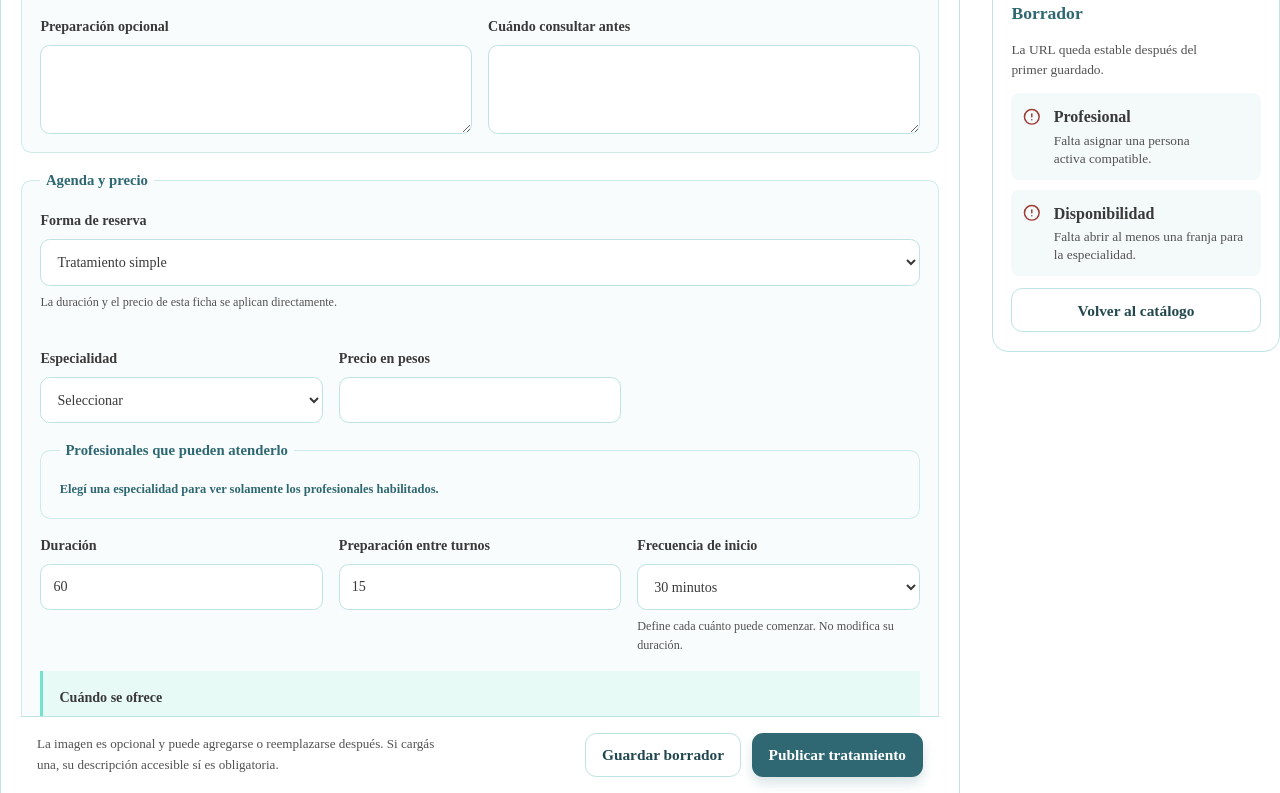
Test: TreatmentEditor › clears an assignment when the specialty changes to an incompatible one
(page scrolled)
Step 1. Select "Masoterapia" in the dropdown labelled "Especialidad" → (182, 400), box [40,376,323,423]
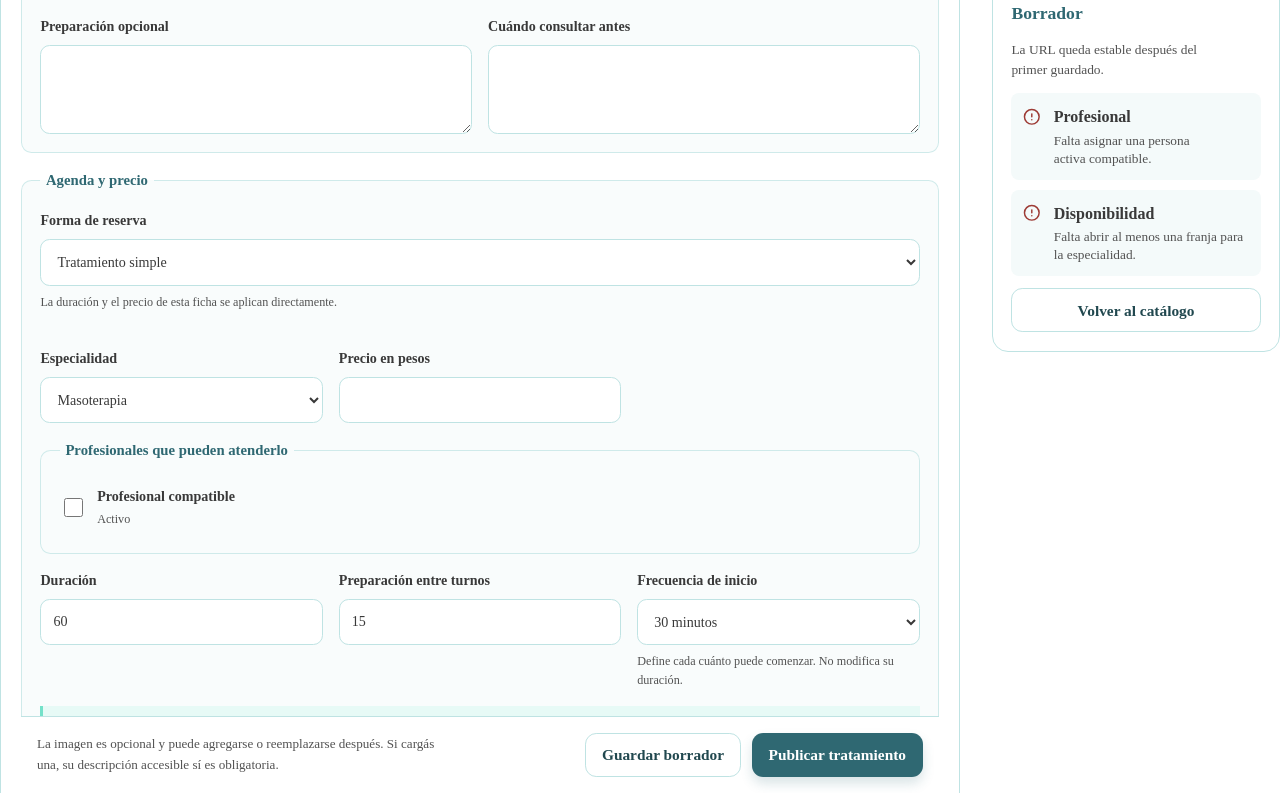
Step 2. Click the checkbox labelled "Profesional compatible Activo" → (73, 507), box [64,498,83,517]
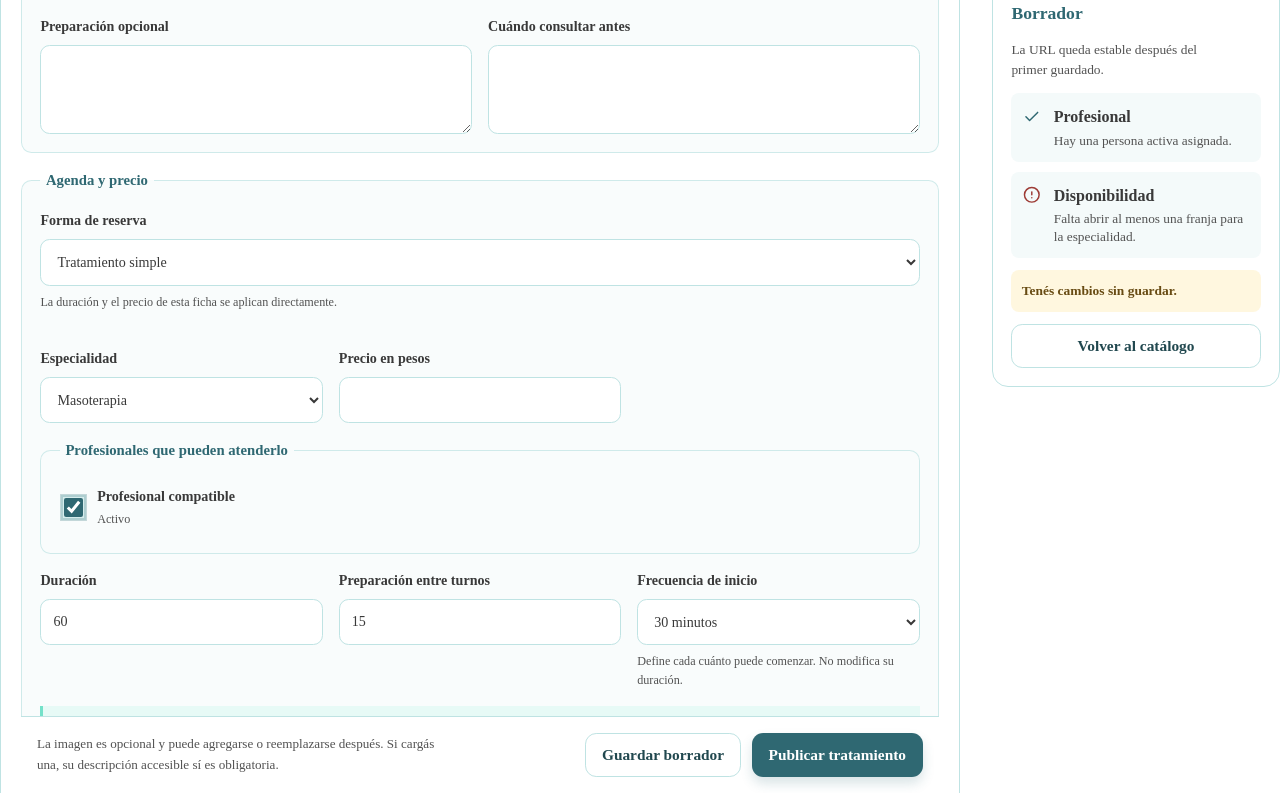
Expected: the checkbox labelled "Profesional compatible Activo" is checked, [64,498,83,517]
Step 3. Select "Estética corporal" in the dropdown labelled "Especialidad" → (182, 400), box [40,376,323,423]
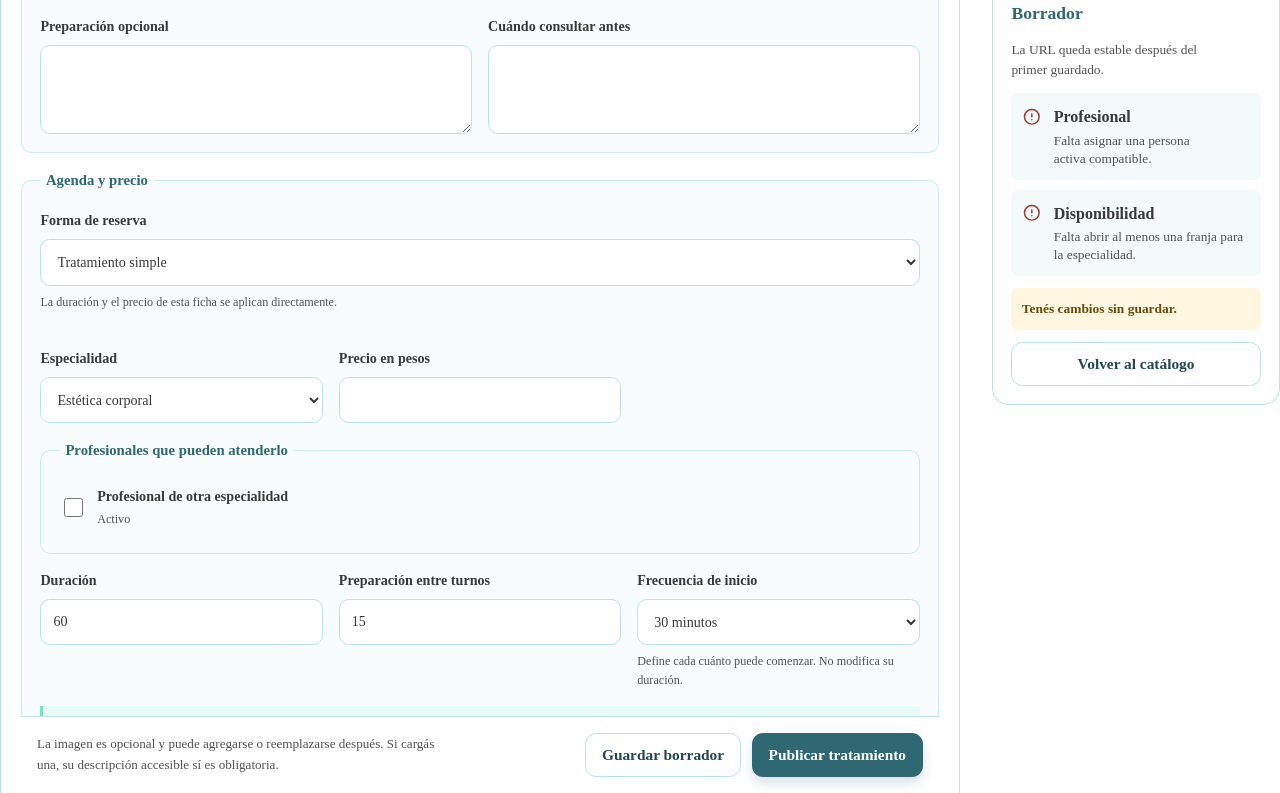
Expected: the text "Profesional compatible" is gone
Expected: the checkbox labelled "Profesional de otra especialidad Activo" is not checked, [64,498,83,517]
